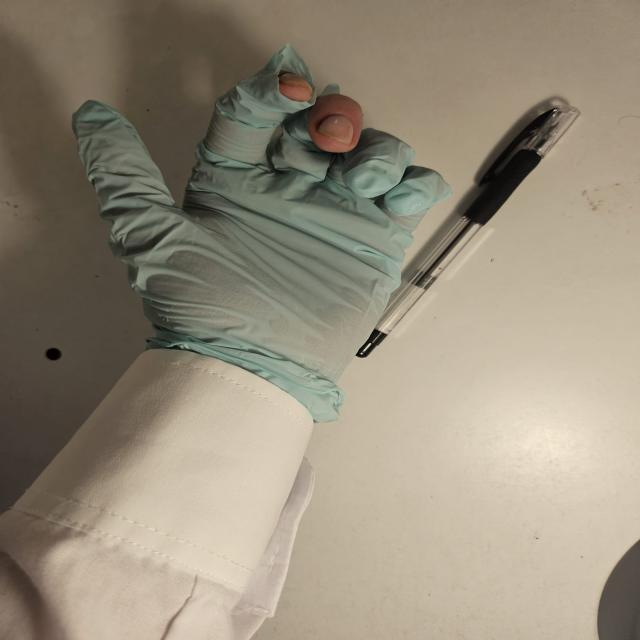gloves_damaged: (71, 44, 452, 426)
